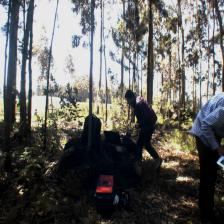trunktrack_idkeyframe: (4, 46, 17, 150), (86, 48, 92, 148), (18, 60, 25, 132), (42, 96, 46, 142)
